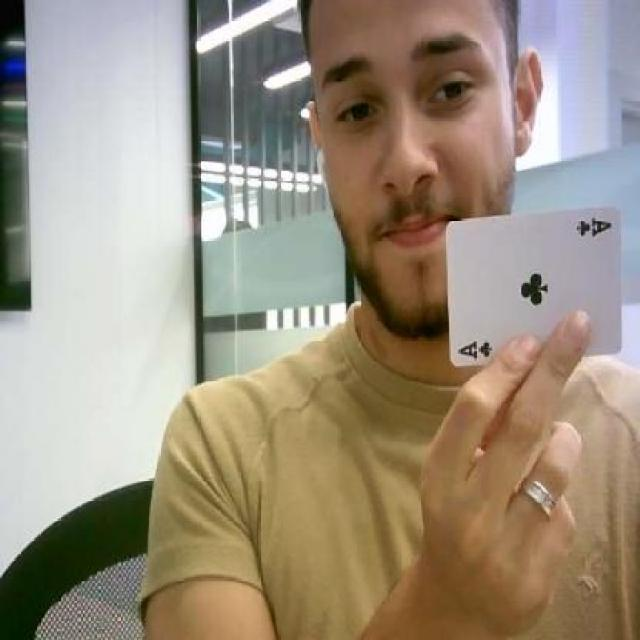AC: (573, 217, 613, 240), (457, 341, 494, 362)
